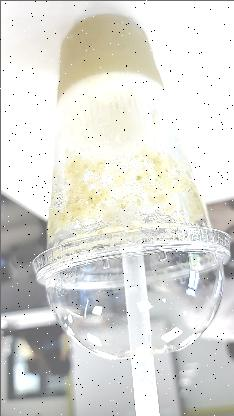Others: (30, 15, 230, 359), (25, 224, 233, 360), (102, 226, 165, 416)
